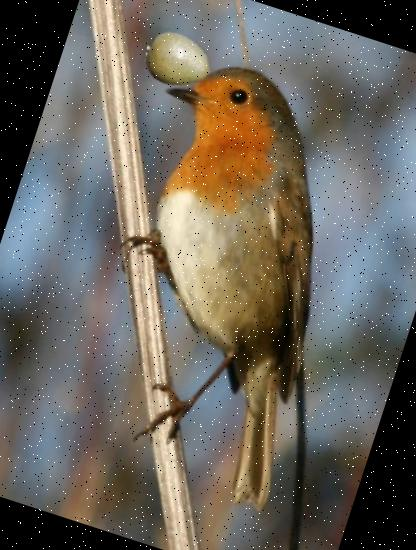Pear: (136, 18, 220, 102)
